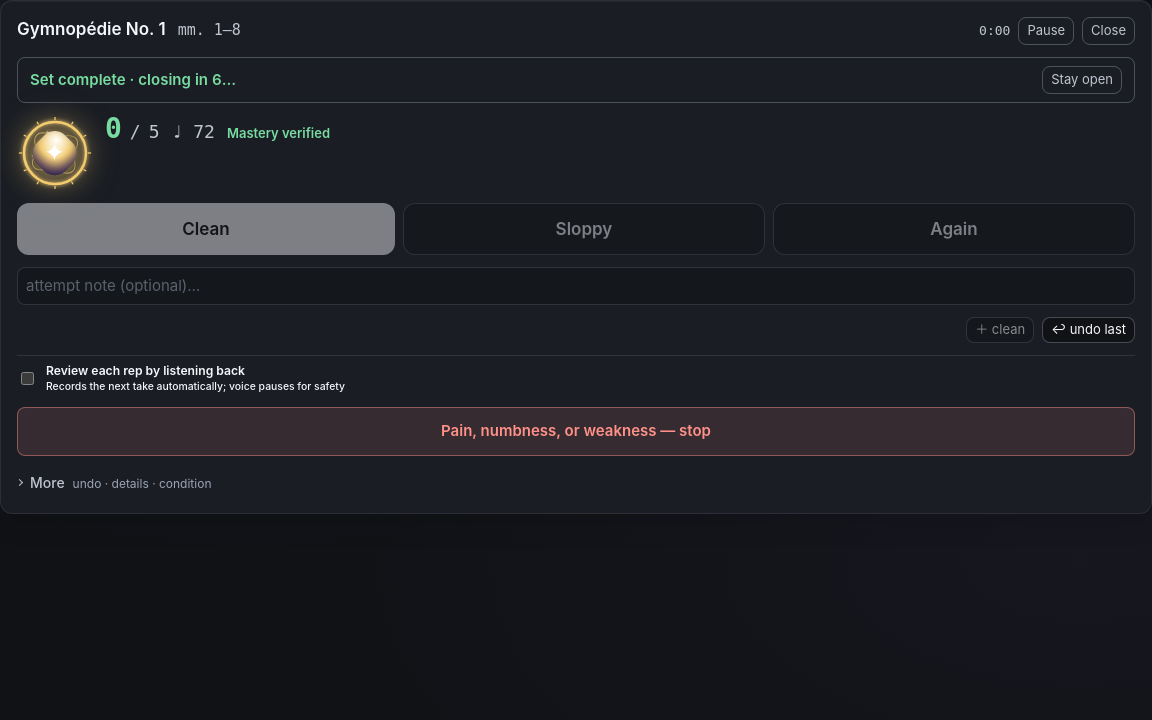
RepHud › B2 — a finished set closes itself › offers Stay open, which cancels the close for good
The image size is (1152, 720).
Click the button "Stay open".
click(1082, 80)  # box top-left (1042, 66), bottom-right (1122, 94)
Wait 60000 ms
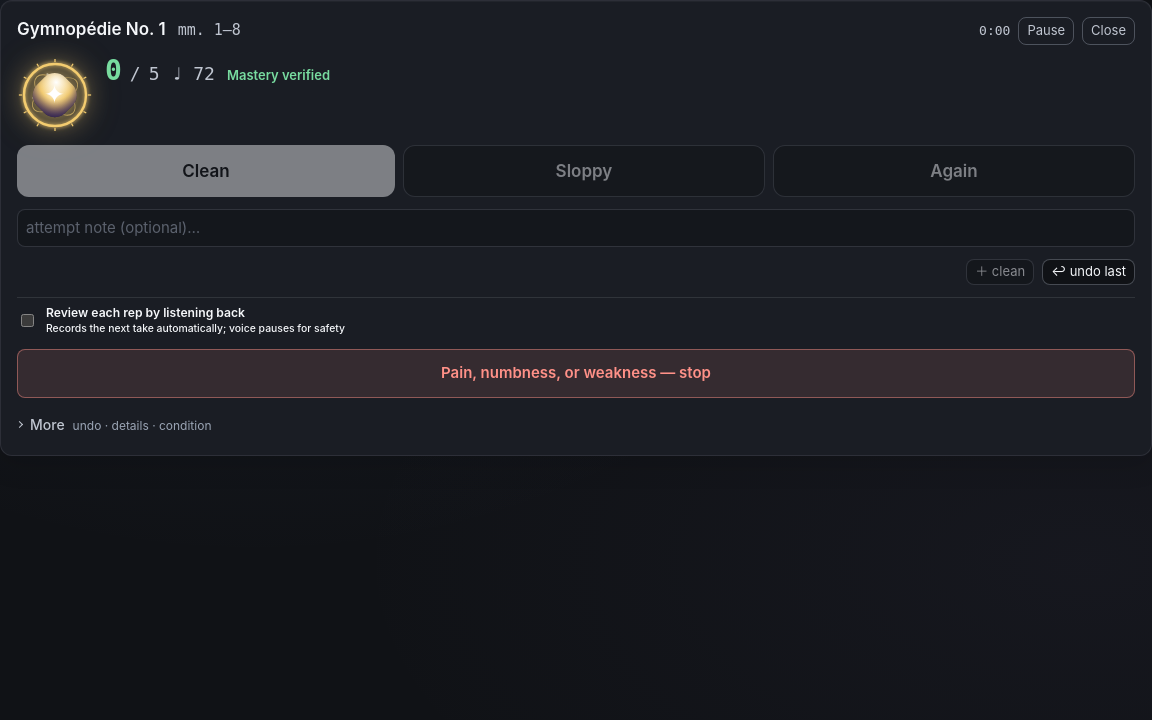
Expected: the text "Set complete" is gone
